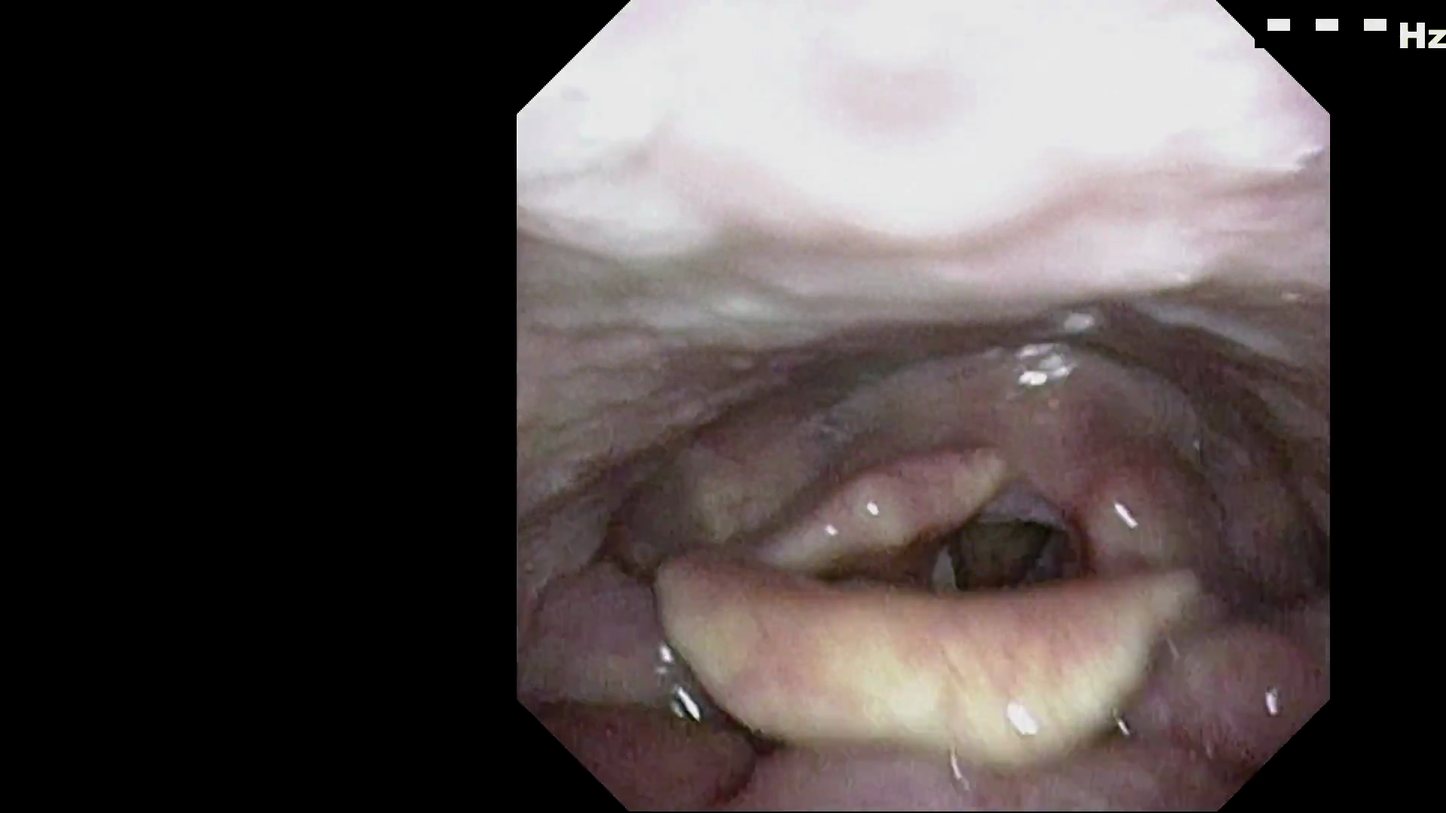epiglottis: (638, 597, 1180, 737)
trachea: (928, 508, 1082, 609)
